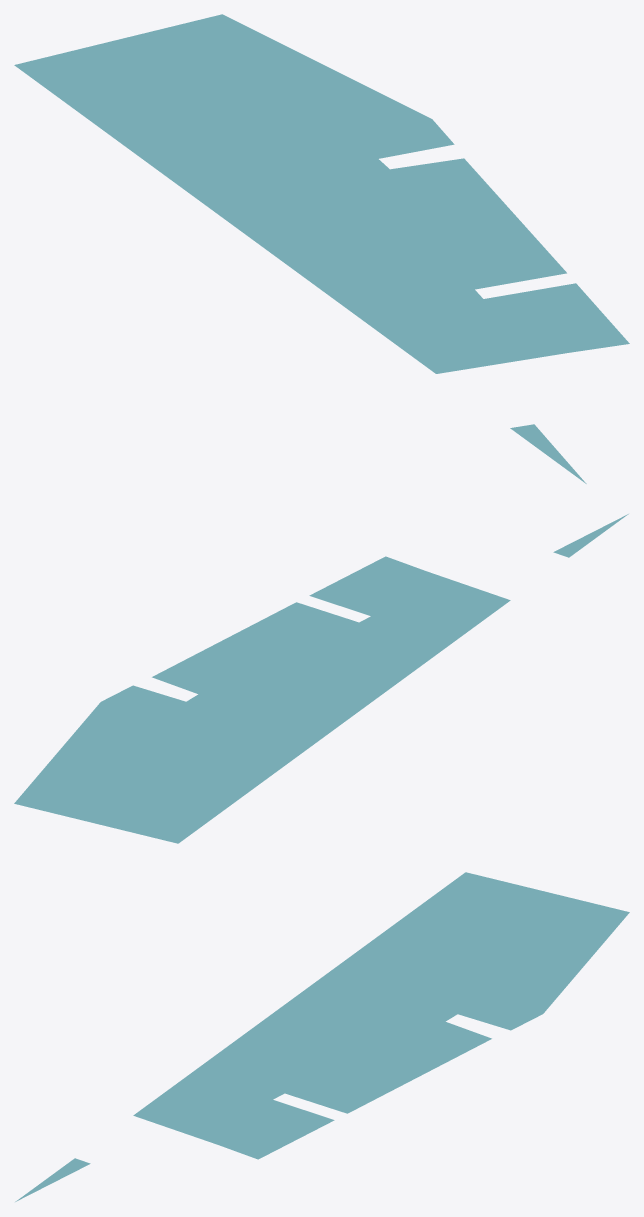
The picture shows the model from 3 angles, top to bottom: view 1: azimuth 30°, elevation 25°; view 2: azimuth 150°, elevation 25°; view 3: azimuth 330°, elevation 25°; orthographic projection. The views are drawn at different scales.
Parts seen in each view (by area): view 1: city; view 2: city; view 3: city.
Boxes of the visible parts, box(x1,y1,x2,y2) form: city: box(14, 14, 629, 483); city: box(14, 514, 628, 843); city: box(15, 872, 629, 1201).
Bounding box in the file's own units: 85.72 × 0 × 330.
